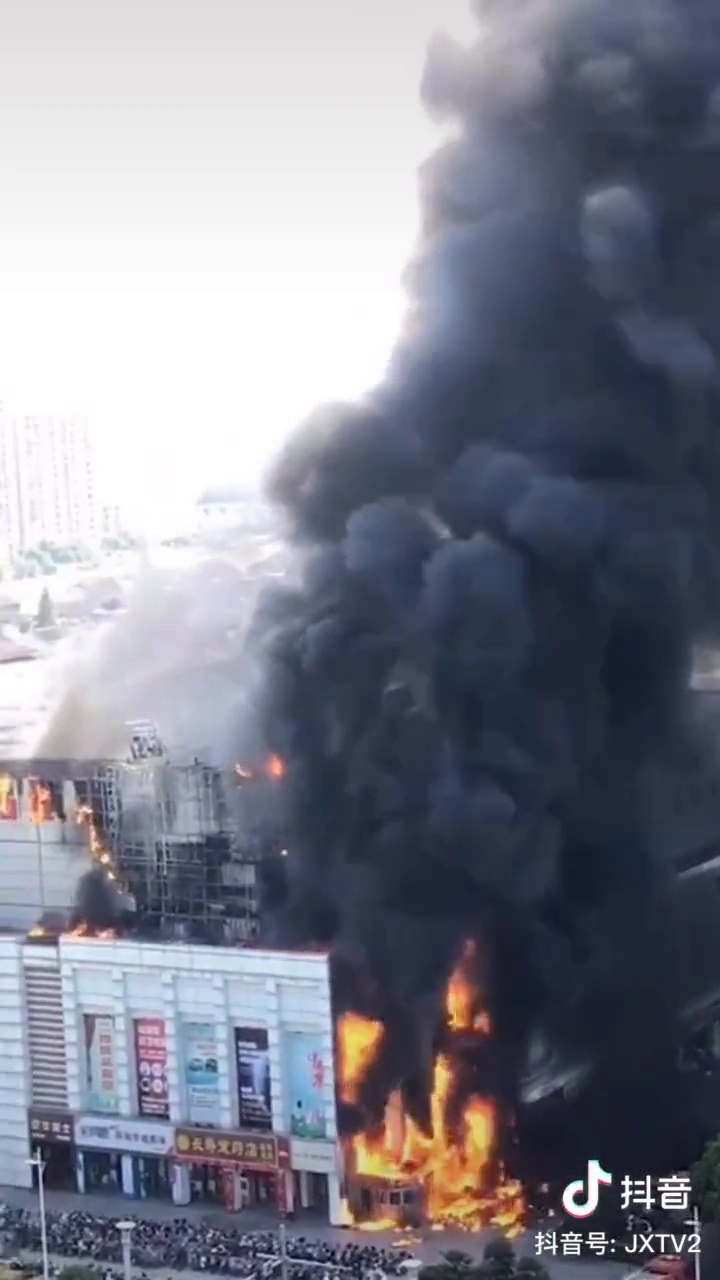fire: (333, 1002, 537, 1243)
yanwu: (268, 36, 686, 951)
